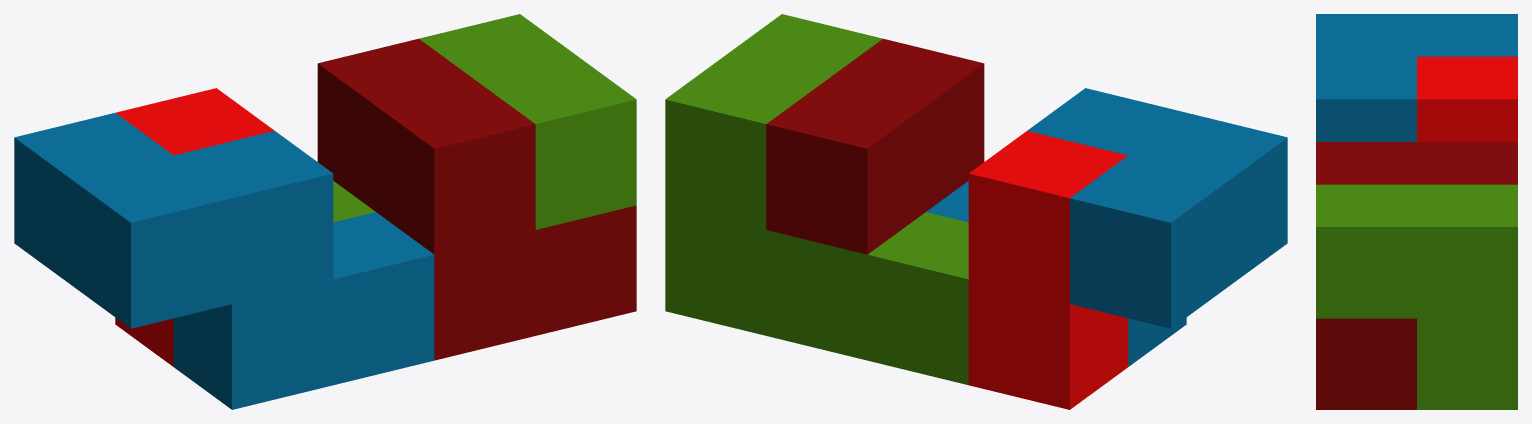
The picture shows the model from 3 angles, left to right: view 1: azimuth 30°, elevation 25°; view 2: azimuth 150°, elevation 25°; view 3: azimuth 270°, elevation 25°; orthographic projection. The views are drawn at different scales.
Visible parts, largest first — view 1: mergedBlocks(Clone); view 2: mergedBlocks(Clone); view 3: mergedBlocks(Clone).
Part boxes in pixels (bbox=[...]): mergedBlocks(Clone): bbox=[14, 14, 636, 409]; mergedBlocks(Clone): bbox=[665, 14, 1287, 409]; mergedBlocks(Clone): bbox=[1316, 14, 1517, 409].
Bounding box in the file's own units: 5 × 2 × 2.
Materials: 4 (4 with a texture image).
